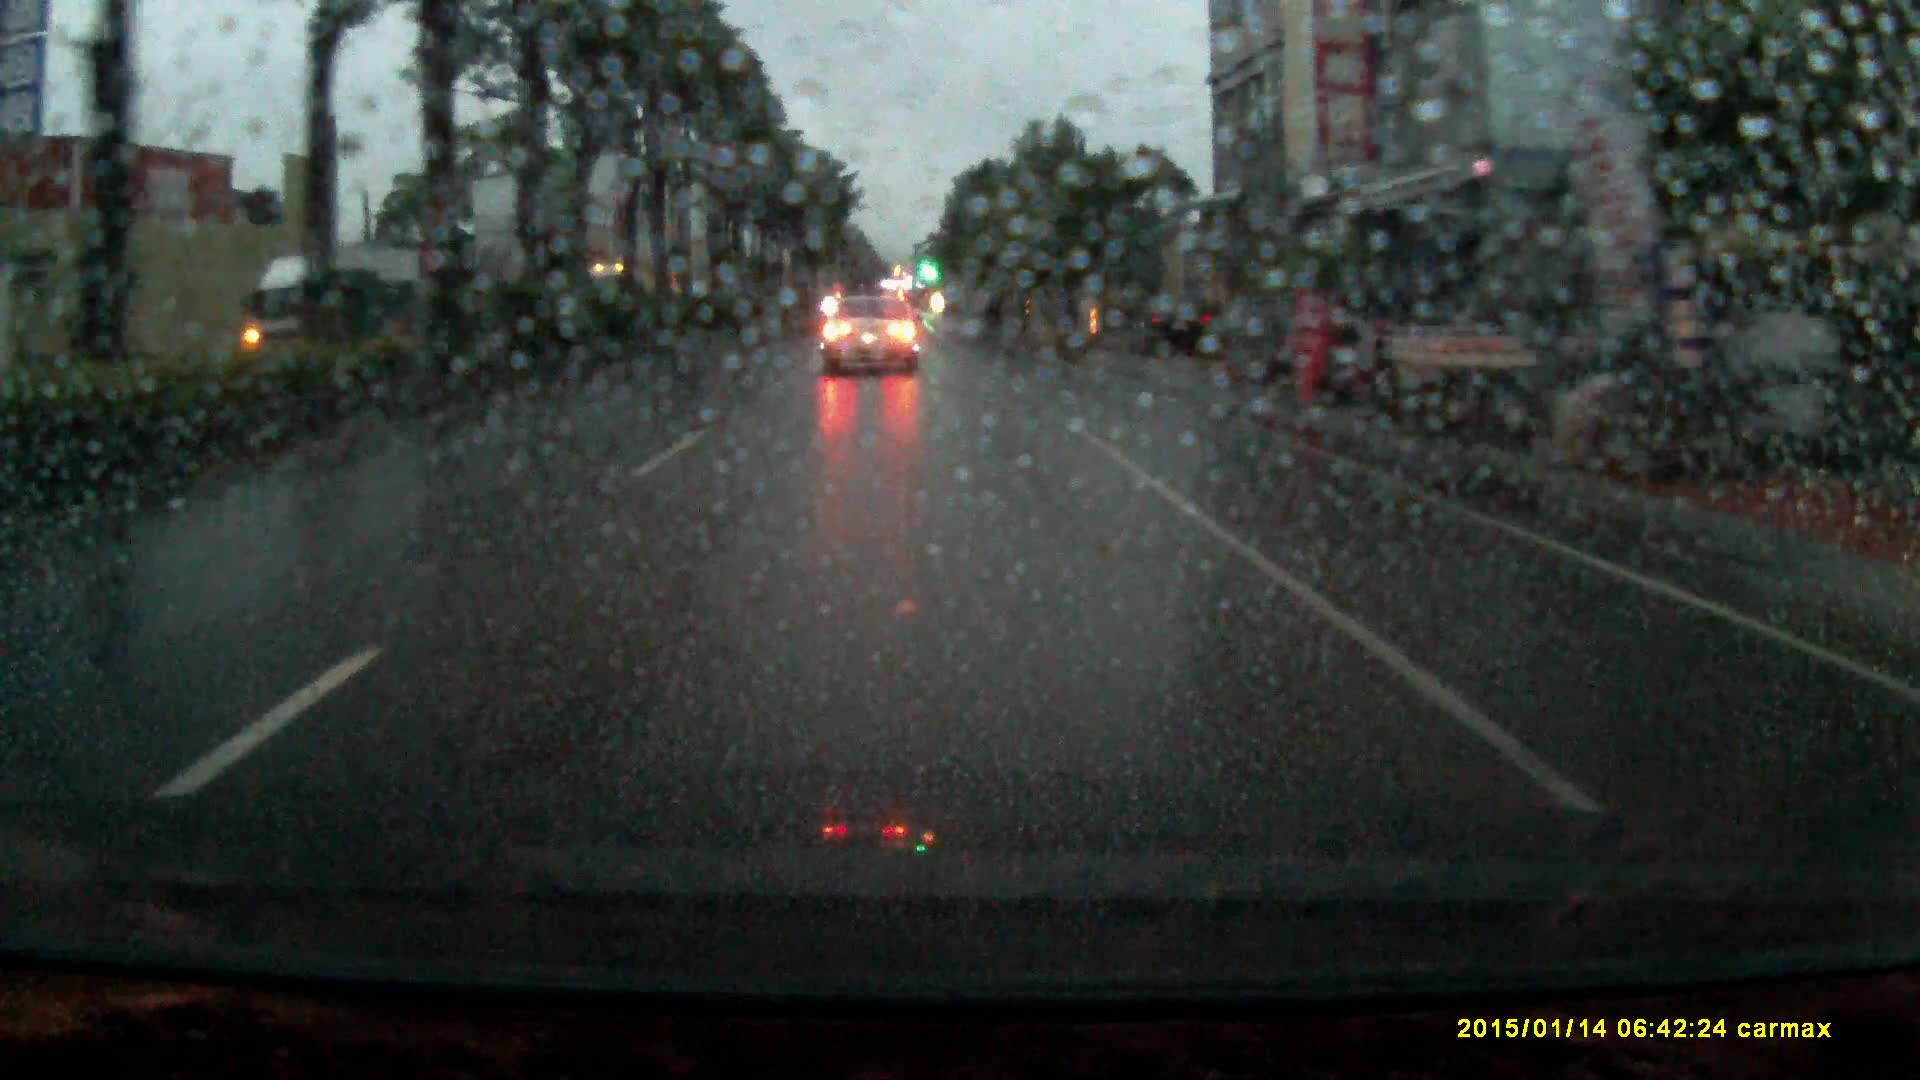vehicle: (243, 245, 425, 352), (822, 291, 923, 377), (1125, 294, 1216, 360), (587, 266, 659, 295)
